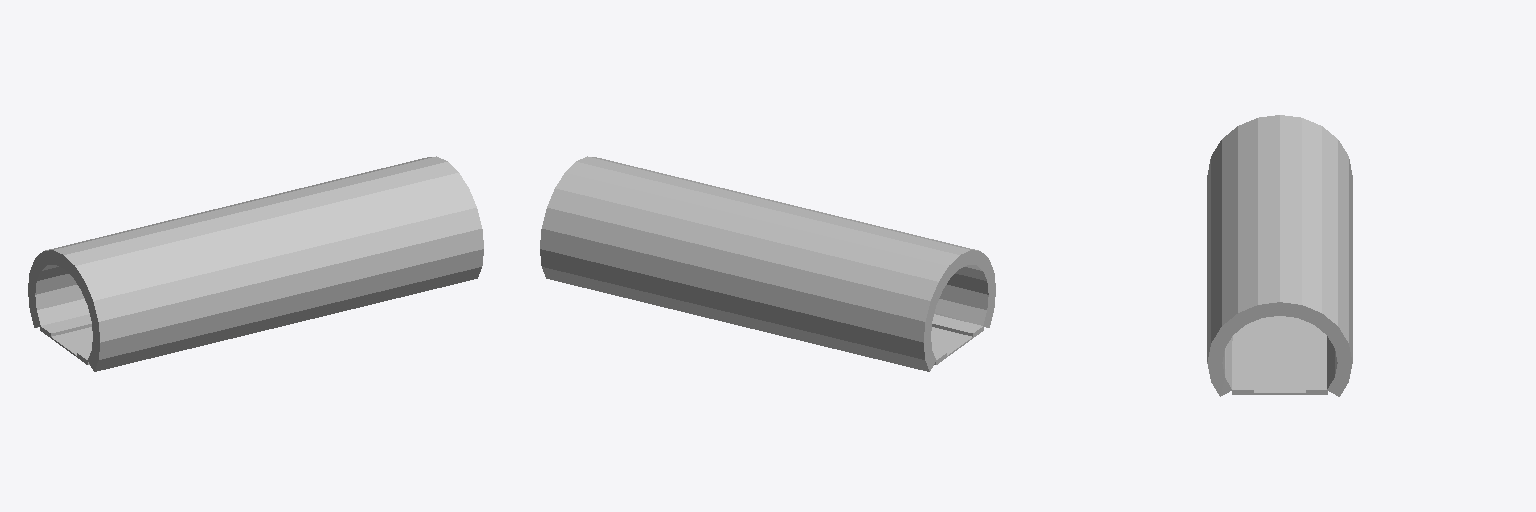
File: sewer_straight.obj
The picture shows the model from 3 angles: view 1: azimuth 30°, elevation 25°; view 2: azimuth 150°, elevation 25°; view 3: azimuth 270°, elevation 25°; orthographic projection.
Parts seen in each view (by area): view 1: walls, floor, walkway2; view 2: walls, floor, walkway1; view 3: walls, floor, walkway1, walkway2.
Part boxes in pixels (x1,y1,x2,y2): walls: (28,156,483,371); floor: (51,327,92,356); walkway2: (40,314,91,337); walls: (540,156,995,371); floor: (931,327,972,356); walkway1: (932,314,983,337); walls: (1207,115,1352,396); floor: (1254,316,1306,394); walkway1: (1232,322,1253,394); walkway2: (1306,322,1327,394).
Bounding box in the file's own units: 125 × 29.61 × 40.99.